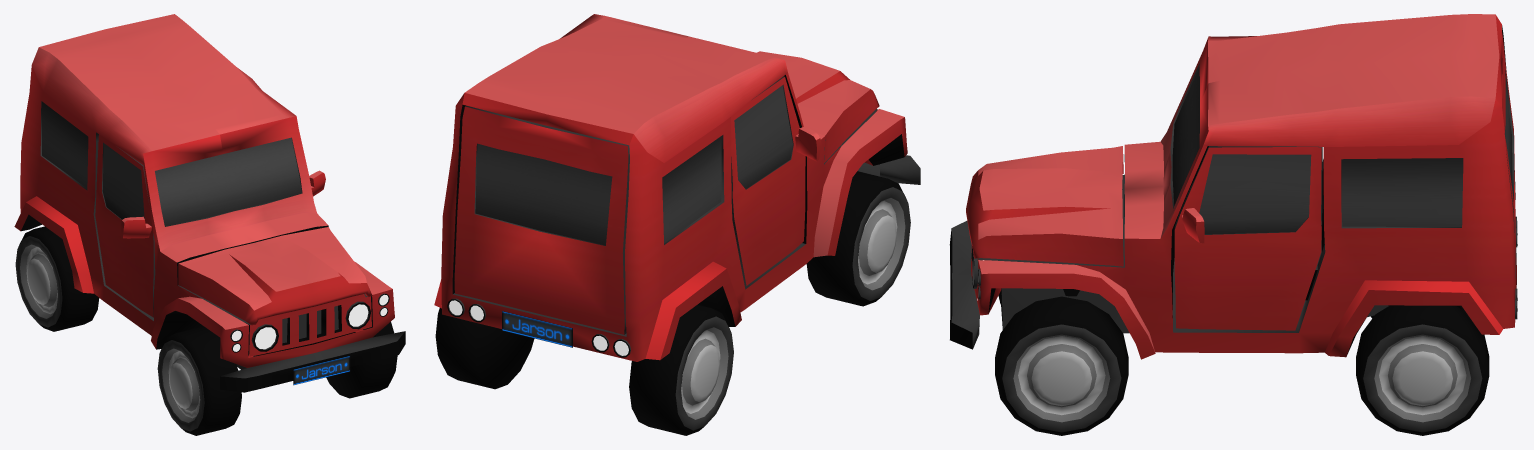
Rendered from jeep.gltf.
3 views of the same model, side by side, from view 1: azimuth 30°, elevation 25°; view 2: azimuth 150°, elevation 25°; view 3: azimuth 270°, elevation 25° (orthographic). The views are drawn at different scales.
Parts seen in each view (by area): view 1: s_0053, hood, lDoor, Plane011; view 2: s_0053, lDoor, hood, Plane012; view 3: s_0053, rDoor, hood.
Boxes of the visible parts, <box> form: s_0053: <box>14,14,405,435</box>; hood: <box>178,227,372,325</box>; lDoor: <box>95,134,155,317</box>; Plane011: <box>293,356,350,385</box>; s_0053: <box>434,14,920,435</box>; lDoor: <box>731,76,821,285</box>; hood: <box>757,51,879,162</box>; Plane012: <box>502,311,572,347</box>; s_0053: <box>949,14,1517,435</box>; rDoor: <box>1174,146,1322,330</box>; hood: <box>966,146,1123,266</box>.
Size of the model in its own units: 8.76 by 10.6 by 16.86.
Materials: 2 (2 with a texture image).
